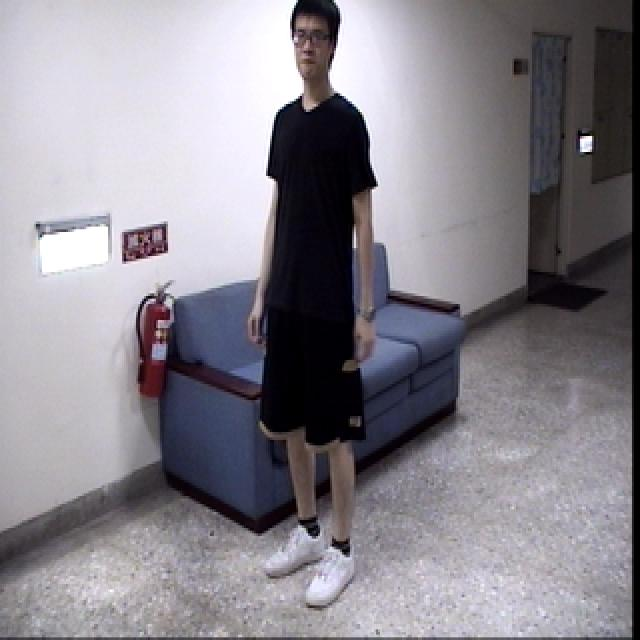stand: (224, 0, 385, 627)
